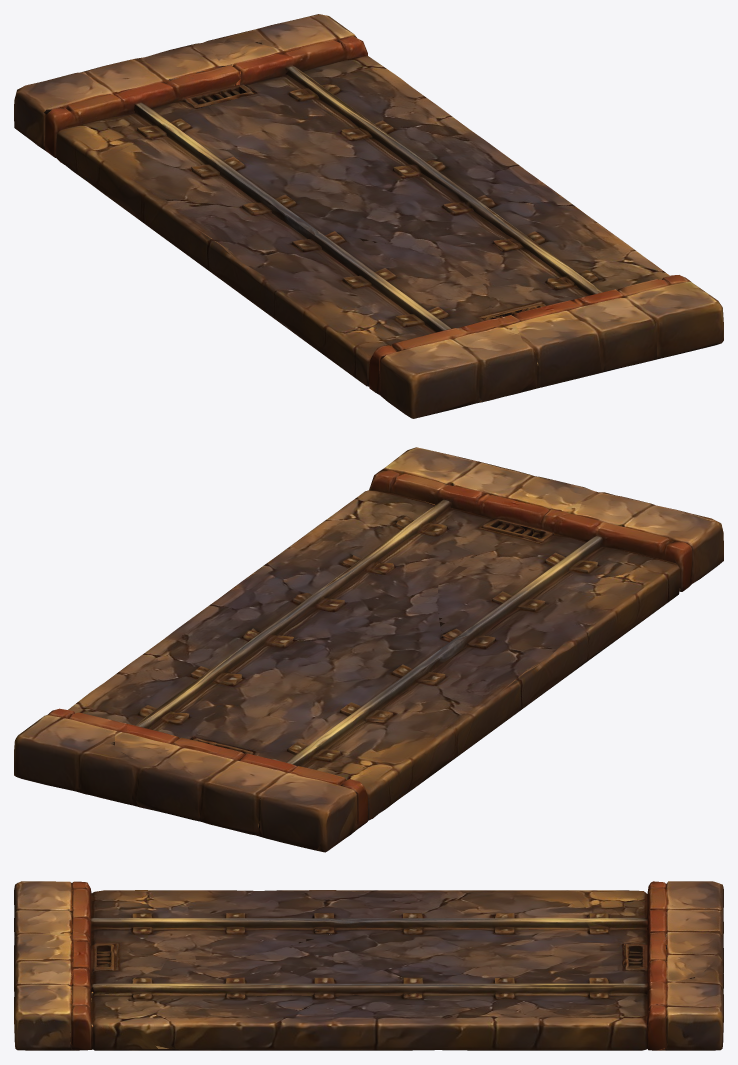
File: streetcar-track-straight.glb
3 renders of one model, top to bottom at view 1: azimuth 30°, elevation 25°; view 2: azimuth 150°, elevation 25°; view 3: azimuth 270°, elevation 25°, orthographic. The views are drawn at different scales.
Parts seen in each view (by area): view 1: SM_StreetcarTrackStraight; view 2: SM_StreetcarTrackStraight; view 3: SM_StreetcarTrackStraight.
Part boxes in pixels (x1=…): SM_StreetcarTrackStraight: x1=14, y1=14, x2=723, y2=418; SM_StreetcarTrackStraight: x1=14, y1=447, x2=723, y2=852; SM_StreetcarTrackStraight: x1=14, y1=881, x2=723, y2=1050.
Size of the model in its own units: 3.01 by 0.3856 by 6.64.
1 material, 1 textured.
